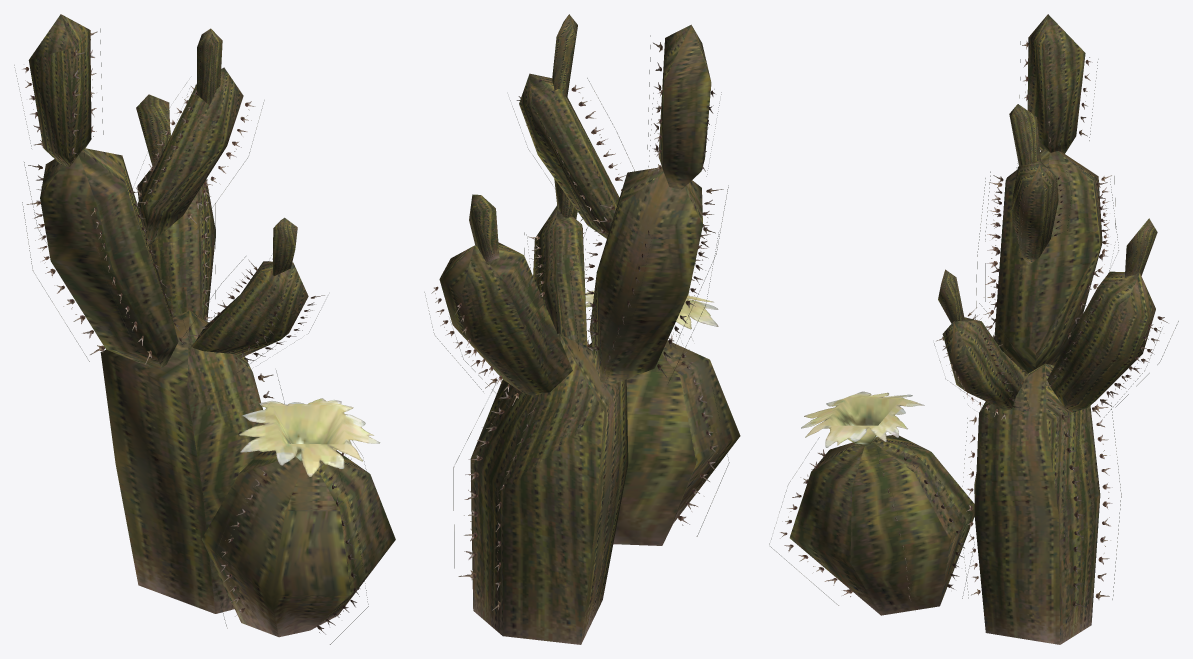
Rendered from plant_vege_062.FBX.
3 views of the same model, side by side, from view 1: azimuth 30°, elevation 25°; view 2: azimuth 150°, elevation 25°; view 3: azimuth 270°, elevation 25° (orthographic). The views are drawn at different scales.
Parts seen in each view (by area): view 1: plant_vege_062_01; view 2: plant_vege_062_01; view 3: plant_vege_062_01.
Part boxes in pixels (left/top/right/bottom): plant_vege_062_01: left=14, top=14, right=395, bottom=644; plant_vege_062_01: left=424, top=14, right=740, bottom=644; plant_vege_062_01: left=769, top=14, right=1178, bottom=644.
Bounding box in the file's own units: 1.57 × 3.29 × 2.25.
